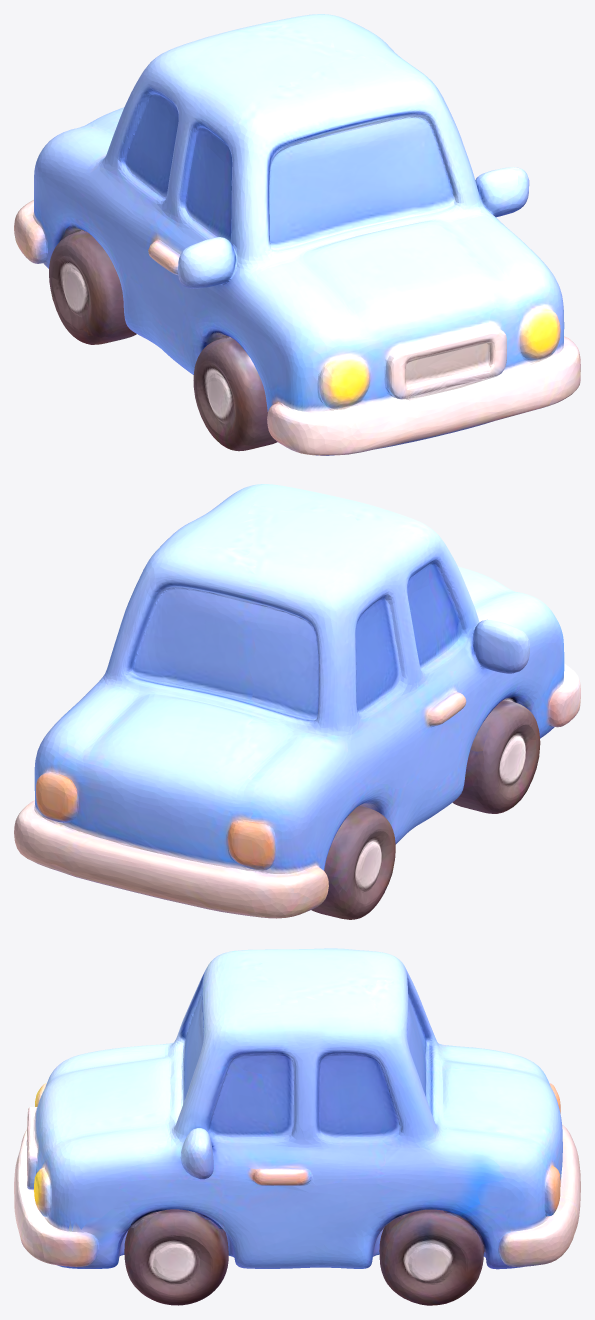
The model's file is car.glb.
The picture shows the model from 3 angles, top to bottom: view 1: azimuth 30°, elevation 25°; view 2: azimuth 150°, elevation 25°; view 3: azimuth 270°, elevation 25°; orthographic projection. The views are drawn at different scales.
Parts seen in each view (by area): view 1: tripo_mesh_413578fd-e24b-4ddb-af94-aebac90b6e32; view 2: tripo_mesh_413578fd-e24b-4ddb-af94-aebac90b6e32; view 3: tripo_mesh_413578fd-e24b-4ddb-af94-aebac90b6e32.
Part boxes in pixels (x1=…): tripo_mesh_413578fd-e24b-4ddb-af94-aebac90b6e32: x1=14, y1=14, x2=580, y2=455; tripo_mesh_413578fd-e24b-4ddb-af94-aebac90b6e32: x1=14, y1=484, x2=580, y2=919; tripo_mesh_413578fd-e24b-4ddb-af94-aebac90b6e32: x1=14, y1=948, x2=580, y2=1305.
Size of the model in its own units: 1.2 by 1 by 1.92.
Materials: 1 (1 with a texture image).
